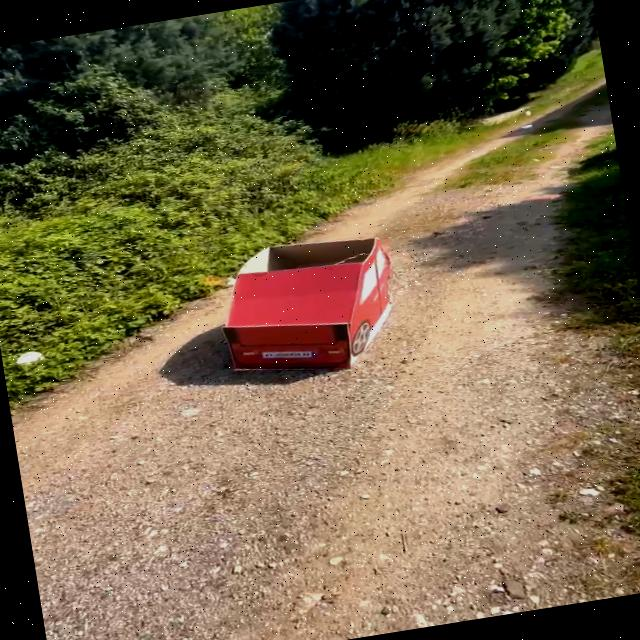red_car: (183, 218, 425, 402)
